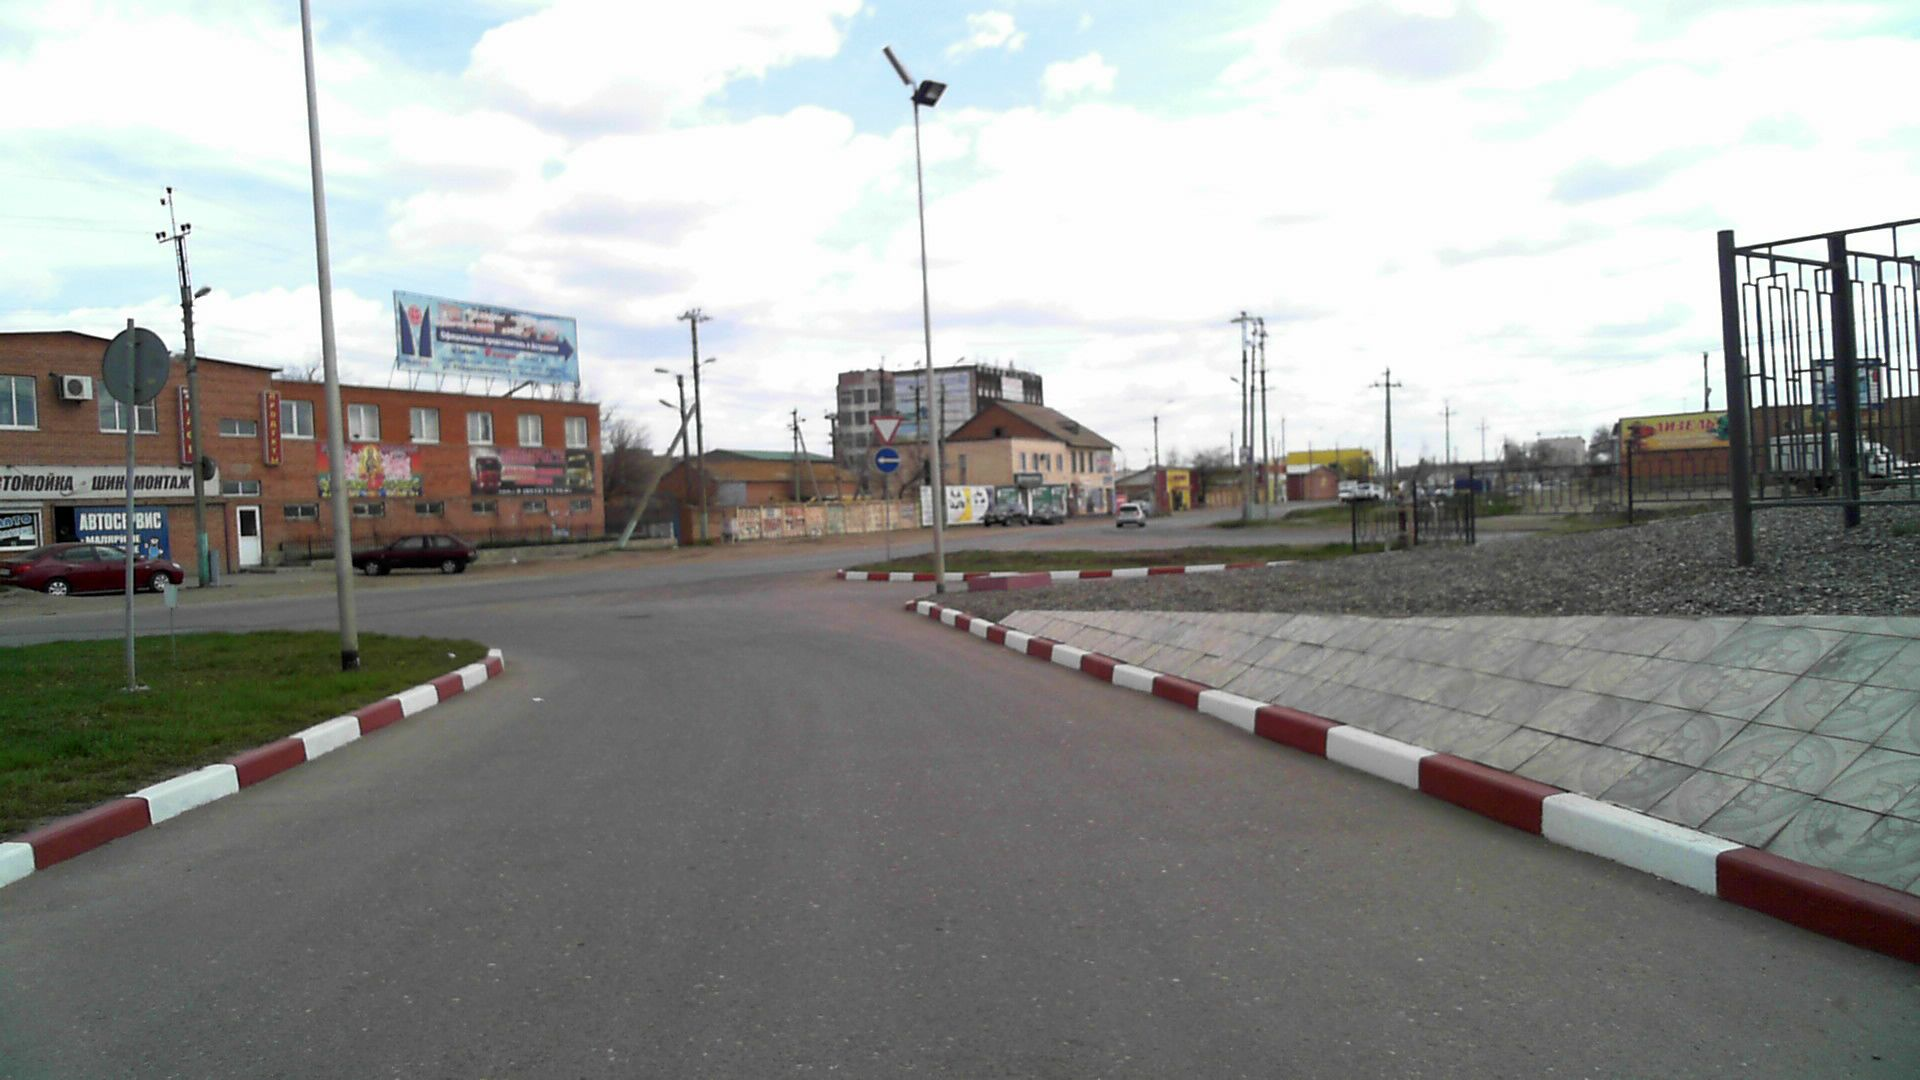Turn Left: (876, 448, 899, 472)
